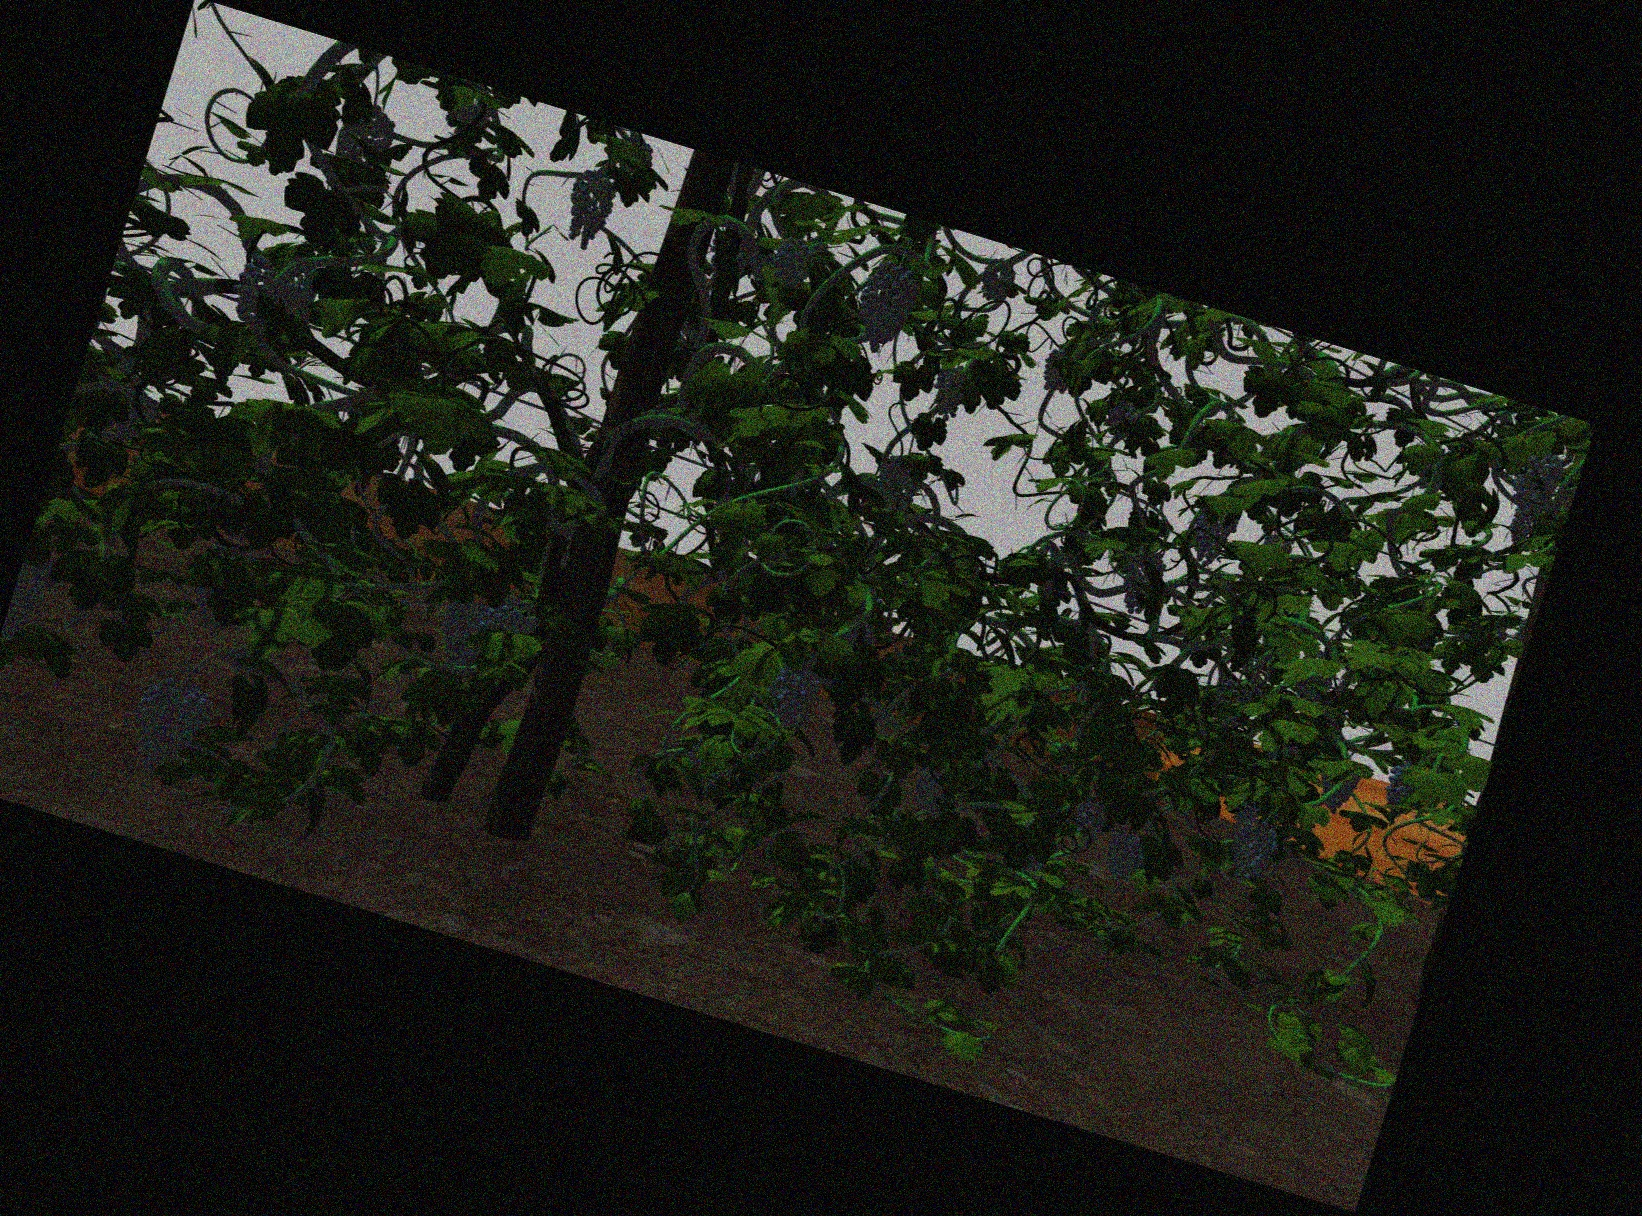grape: (230, 250, 314, 354), (132, 682, 207, 773), (857, 257, 913, 354), (563, 169, 612, 252), (340, 97, 395, 165), (437, 599, 481, 674), (767, 667, 817, 731), (1230, 821, 1276, 884), (1193, 498, 1232, 566), (880, 453, 921, 516), (1125, 551, 1162, 613), (1517, 452, 1559, 505), (772, 238, 815, 289), (1104, 835, 1147, 886), (1383, 763, 1419, 817), (1318, 763, 1356, 814), (930, 364, 967, 415), (493, 597, 538, 639), (910, 771, 947, 815), (981, 258, 1016, 303), (1073, 796, 1107, 840), (1104, 400, 1140, 430), (1507, 501, 1533, 542)
